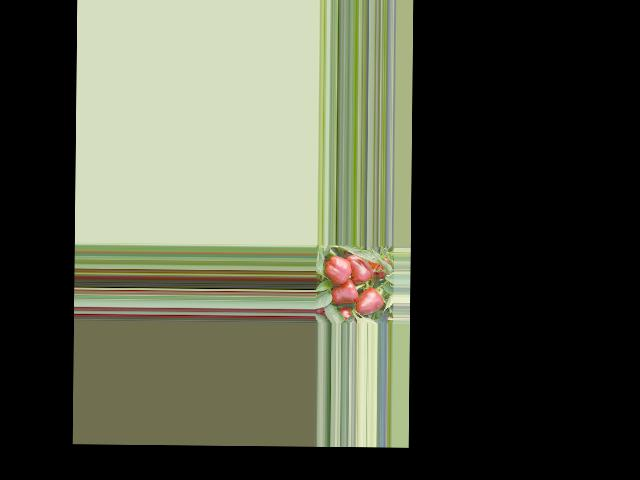bell_pepper: (325, 253, 351, 290)
